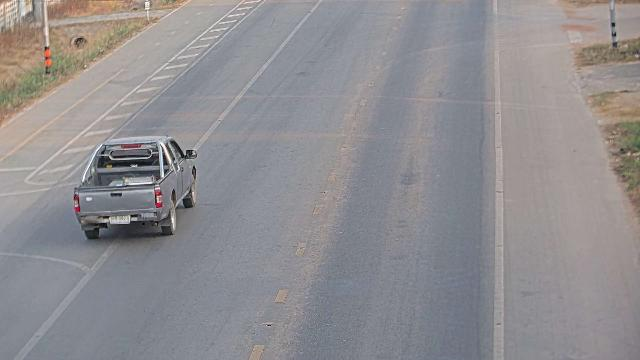pickup-truck: (72, 134, 198, 240)
